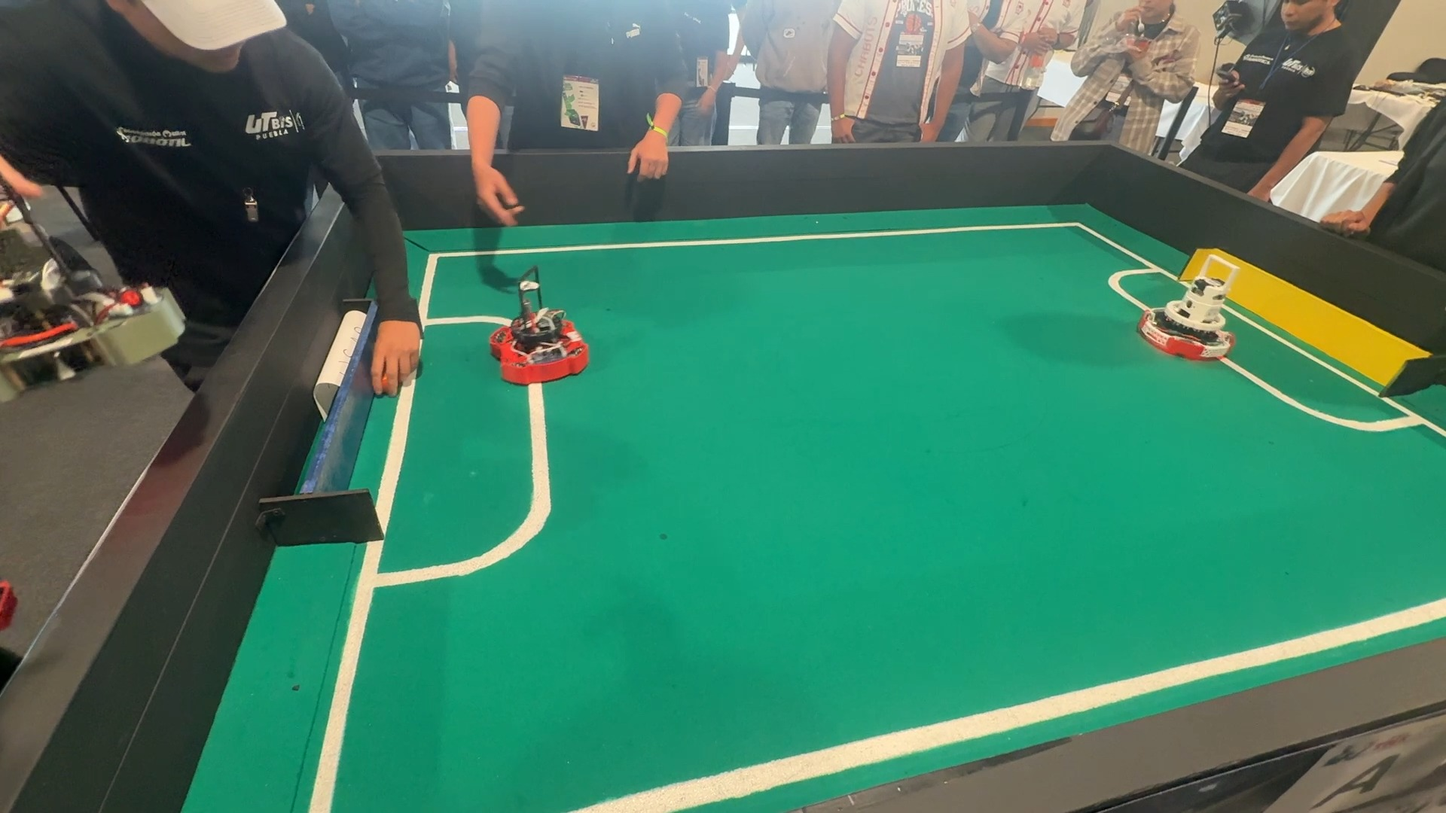Robot: (1108, 246, 1261, 377), (480, 262, 588, 381)
